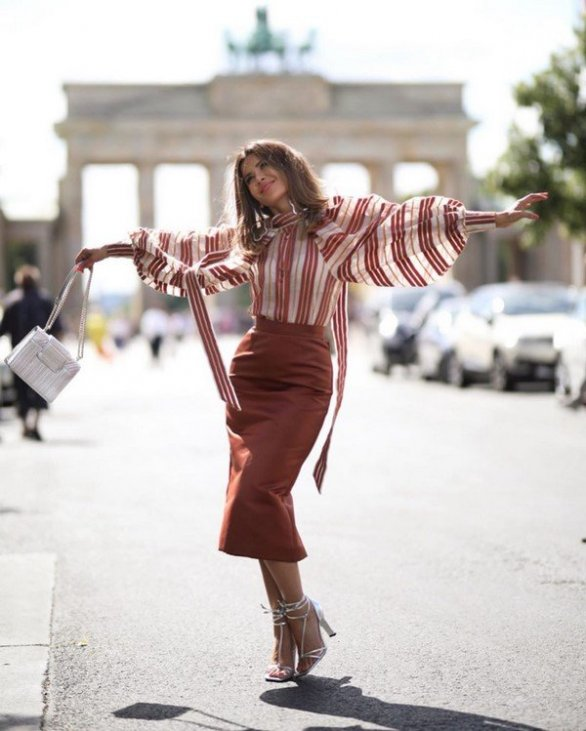striped: (127, 180, 480, 327)
